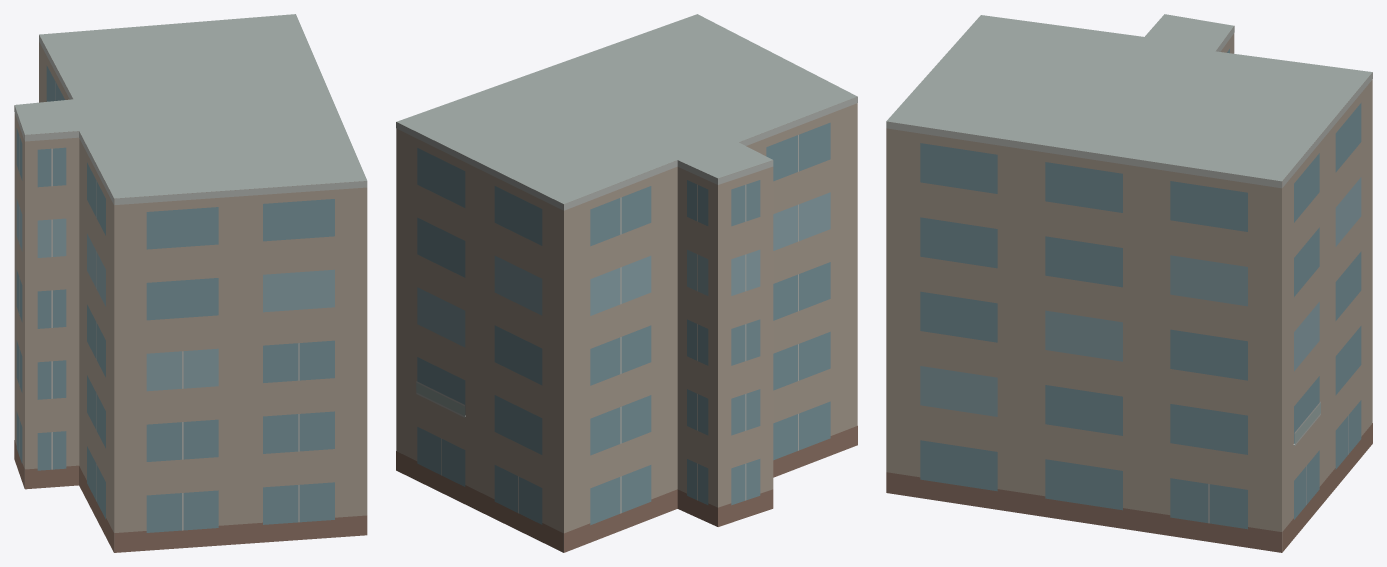
Rendered from survey-upis-32889789.glb.
3 renders of one model, left to right at view 1: azimuth 30°, elevation 25°; view 2: azimuth 150°, elevation 25°; view 3: azimuth 270°, elevation 25°, orthographic. The views are drawn at different scales.
Visible parts, largest first — view 1: survey-upis-32889789.tmp; view 2: survey-upis-32889789.tmp; view 3: survey-upis-32889789.tmp.
Boxes of the visible parts, x1,y1,x2,y2 form: survey-upis-32889789.tmp: (14,14,367,552); survey-upis-32889789.tmp: (396,14,857,552); survey-upis-32889789.tmp: (886,14,1372,552).
Bounding box in the file's own units: 12.57 × 13 × 15.44.
